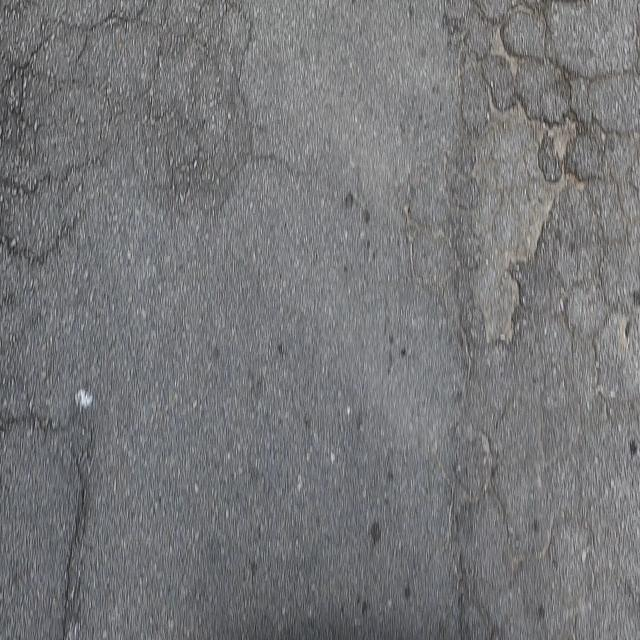Retak-Buaya: (447, 4, 640, 640), (0, 0, 256, 273)
Retak-Melintang: (4, 395, 86, 432)
Retak-Memanjang: (56, 433, 100, 634)
